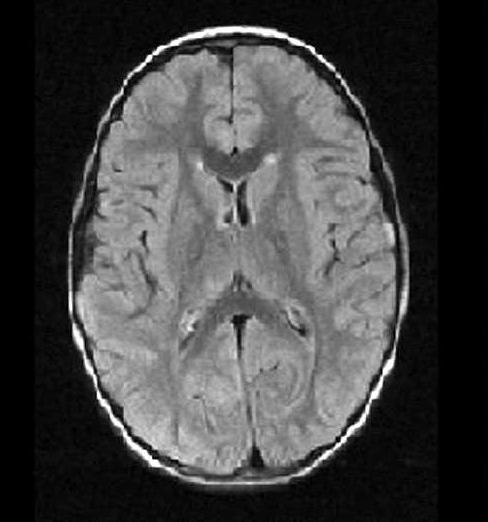Normal_Brain: (1, 1, 488, 522)
